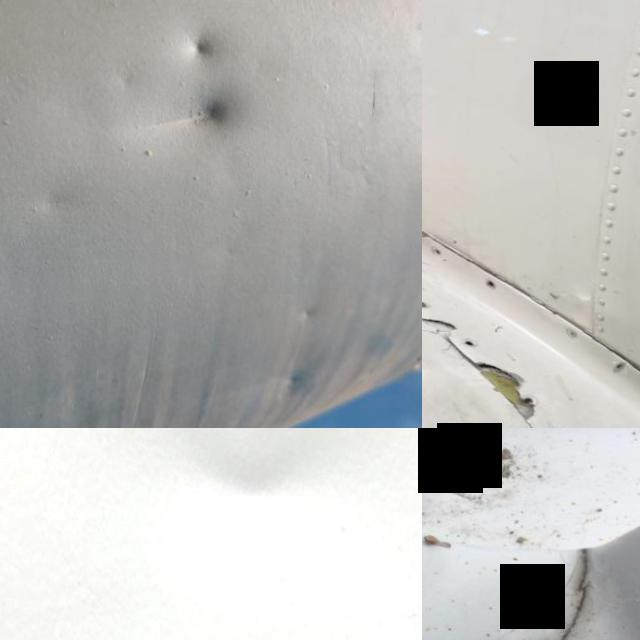Crack: (537, 540, 596, 640), (467, 358, 538, 423), (422, 315, 461, 335), (623, 360, 640, 401), (422, 211, 432, 239)
Dent: (186, 428, 317, 519), (124, 70, 243, 166), (162, 18, 232, 88), (259, 352, 320, 412)
Missing_Fastener: (478, 278, 497, 292), (459, 336, 476, 349), (611, 360, 625, 373), (427, 246, 441, 259)
